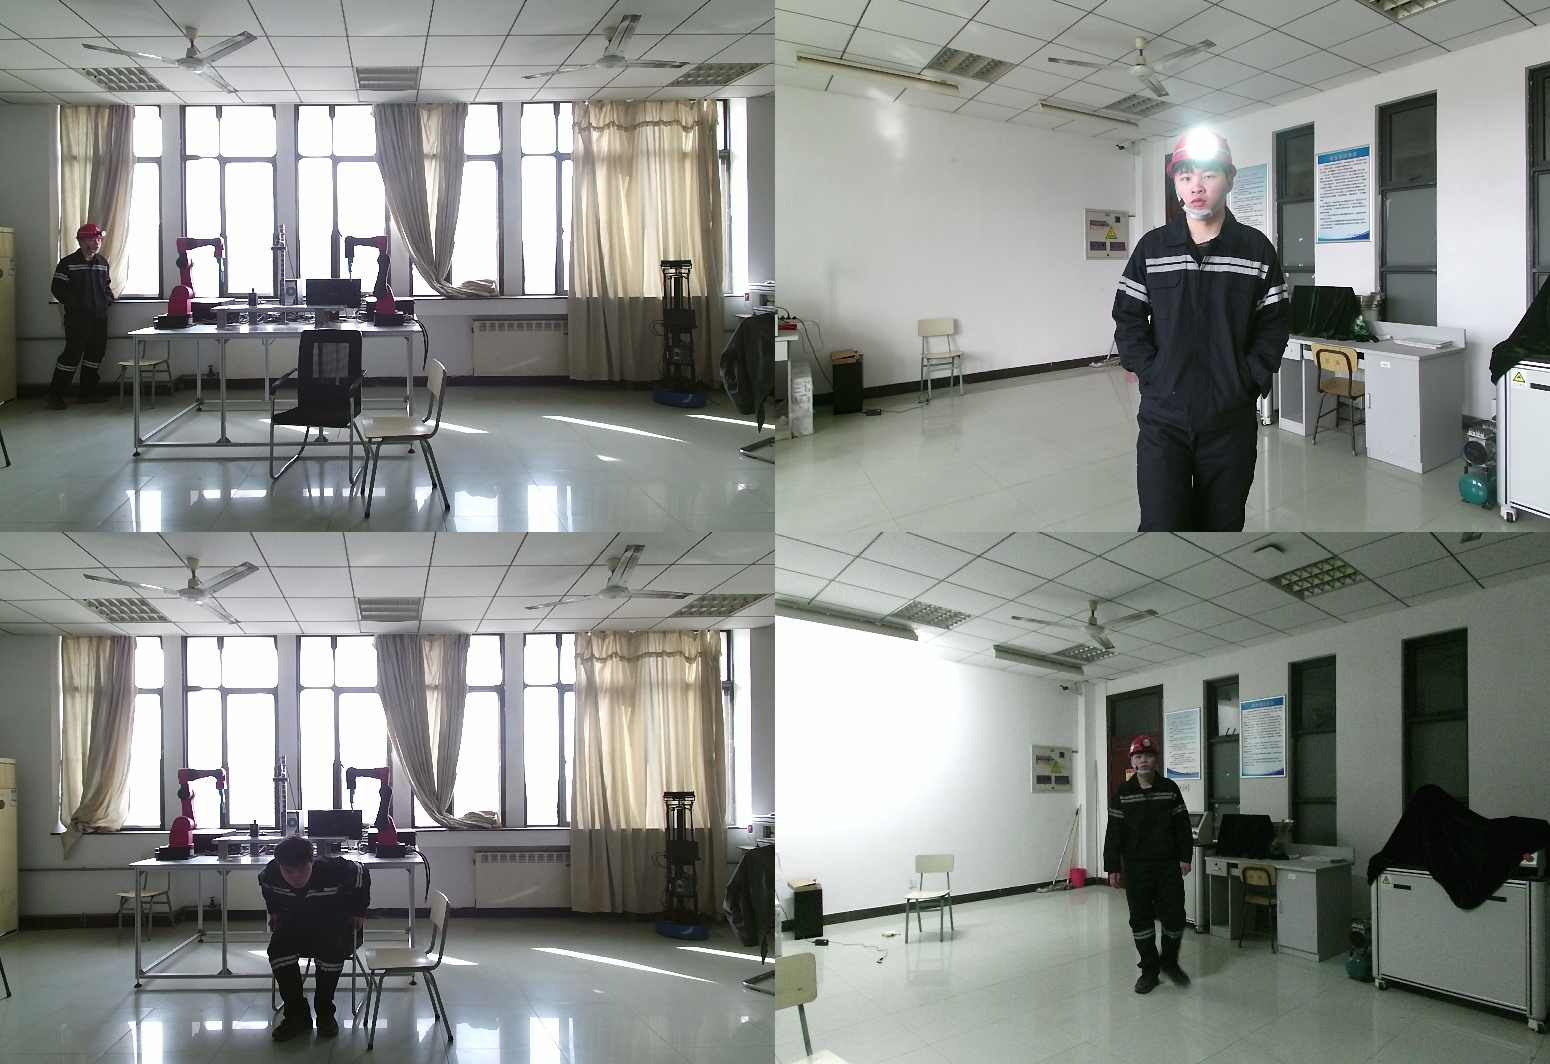person: (1113, 126, 1313, 532), (1105, 737, 1204, 993), (259, 835, 380, 1039), (45, 222, 116, 409)
